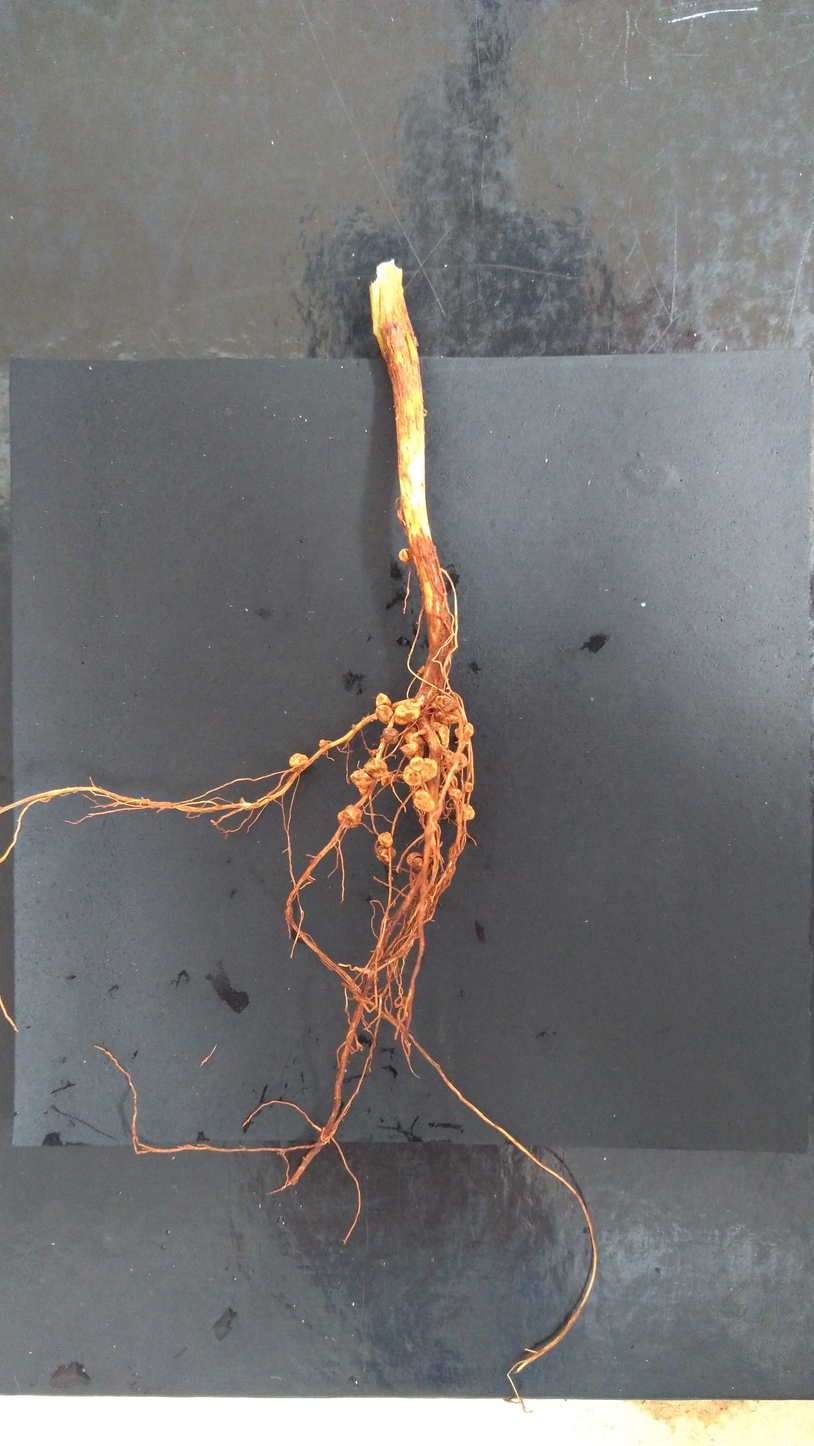nodule: (403, 724, 426, 758), (393, 701, 420, 725), (337, 804, 362, 828), (431, 721, 450, 750), (413, 788, 435, 812), (363, 757, 388, 778), (403, 764, 423, 787), (350, 770, 374, 789), (447, 752, 468, 773), (420, 757, 437, 782), (435, 694, 459, 711), (454, 722, 474, 742), (433, 710, 461, 724), (375, 704, 394, 724), (376, 844, 396, 862), (400, 741, 418, 760), (382, 727, 399, 745), (406, 851, 423, 869), (289, 753, 309, 768), (458, 803, 475, 820), (380, 770, 397, 786), (409, 756, 425, 773), (378, 831, 394, 848), (375, 692, 392, 707), (399, 548, 413, 563), (448, 788, 463, 801), (442, 750, 455, 761), (431, 700, 443, 711), (464, 781, 474, 793), (358, 785, 368, 796), (319, 739, 328, 748), (418, 665, 425, 674), (144, 798, 150, 805), (239, 797, 245, 803), (351, 724, 357, 729), (390, 876, 394, 882)
